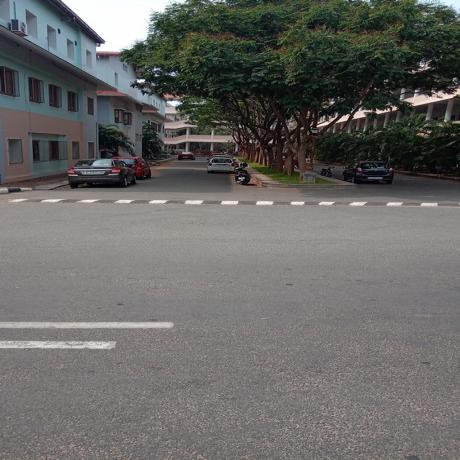Speed Bump: (1, 196, 459, 208)
